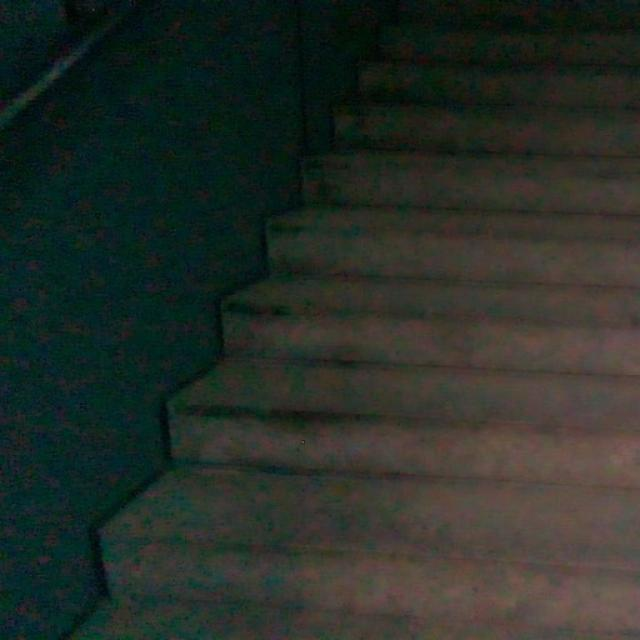stair: (105, 26, 640, 612)
